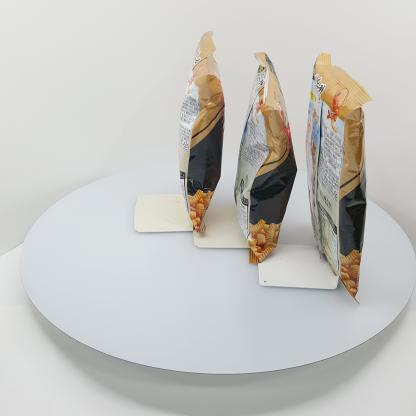Plastic Packaging: (306, 58, 378, 296), (170, 21, 226, 251), (242, 53, 292, 263)
